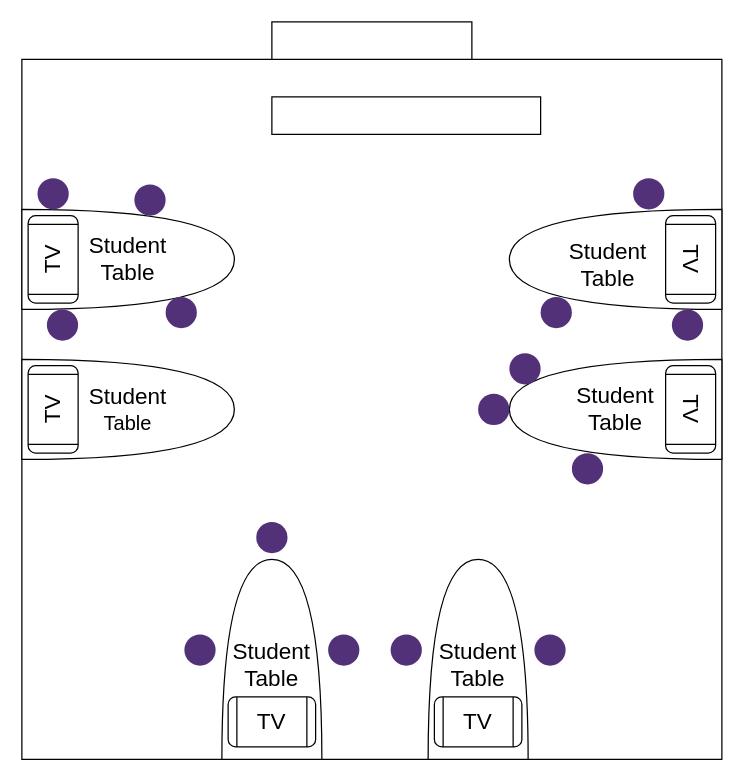
Some shapes in this 744 by 781 pixel diagram are drawn without their labels. Here are the shapes that lost their labels. From the top down, the centre of each, then its label:
At pixel 371 40: "Projector Screen".
At pixel 406 115: "Podium".
